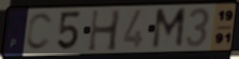3: (185, 7, 213, 50)
4: (121, 8, 146, 51)
5: (57, 10, 84, 53)
C: (24, 11, 55, 52)
H: (86, 8, 123, 53)
M: (150, 6, 188, 51)
